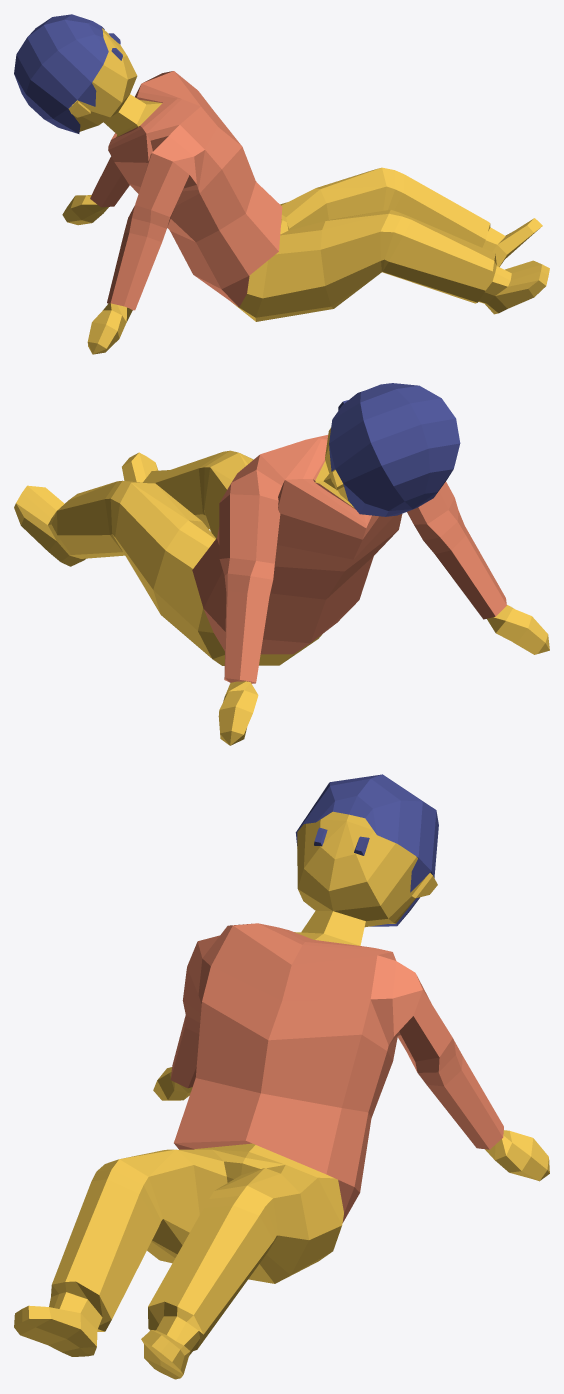
The model's file is 112_天を仰ぐ.glb.
3 views of the same model, one above another, from view 1: azimuth 30°, elevation 25°; view 2: azimuth 150°, elevation 25°; view 3: azimuth 270°, elevation 25° (orthographic). The views are drawn at different scales.
Visible parts, largest first — view 1: 立方体004_3, 立方体004_2, 立方体004_1, 立方体004; view 2: 立方体004_3, 立方体004_2, 立方体004, 立方体004_1; view 3: 立方体004_3, 立方体004_2, 立方体004_1, 立方体004.
Part boxes in pixels (x1,y1,x2,y2): 立方体004_3: (90, 71, 282, 310); 立方体004_2: (231, 167, 496, 321); 立方体004_1: (62, 28, 549, 354); 立方体004: (14, 14, 122, 133); 立方体004_3: (192, 435, 506, 683); 立方体004_2: (51, 450, 322, 665); 立方体004: (329, 383, 460, 516); 立方体004_1: (14, 427, 549, 745); 立方体004_3: (170, 923, 503, 1222); 立方体004_2: (51, 1143, 343, 1350); 立方体004_1: (14, 811, 549, 1379); 立方体004: (295, 774, 438, 926).
Bounding box in the file's own units: 1.69 × 1.07 × 1.34.
